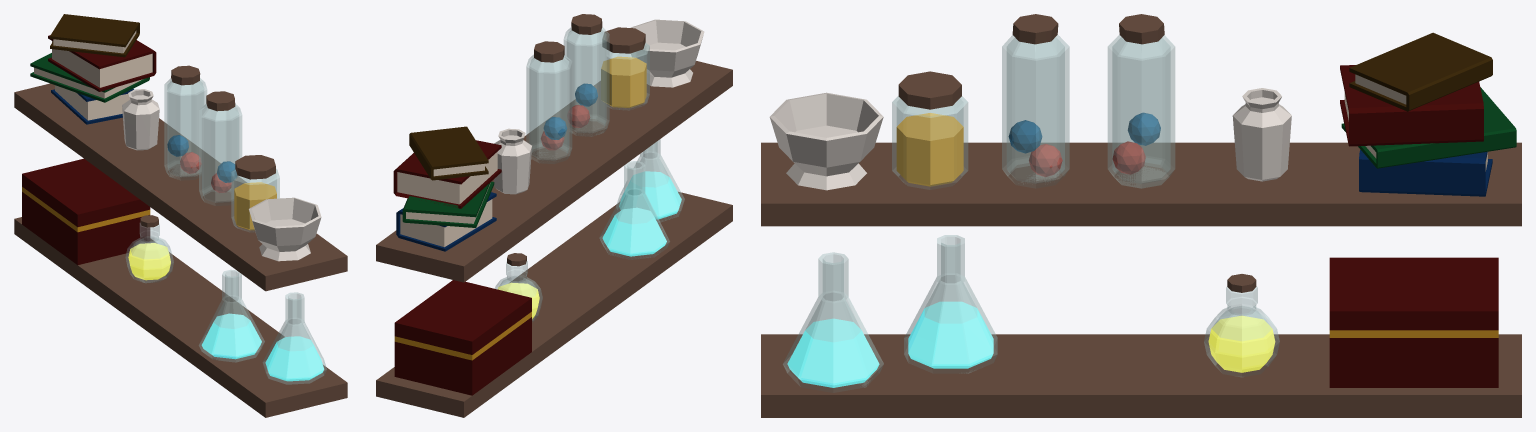
File: valdaSalon 1.fbx
3 views of the same model, side by side, from view 1: azimuth 30°, elevation 25°; view 2: azimuth 150°, elevation 25°; view 3: azimuth 270°, elevation 25° (orthographic). The views are drawn at different scales.
Visible parts, largest first — view 1: ShelfWall_0.5x2x2_proxy.001_0, ShelfWall_0.5x2x2_proxy.001_8, ShelfWall_0.5x2x2_proxy.001_5, ShelfWall_0.5x2x2_proxy.001_1, ShelfWall_0.5x2x2_proxy.001_3, ShelfWall_0.5x2x2_proxy.001_13, ShelfWall_0.5x2x2_proxy.001_6, ShelfWall_0.5x2x2_proxy.001_12, ShelfWall_0.5x2x2_proxy.001_9, ShelfWall_0.5x2x2_proxy.001_4, ShelfWall_0.5x2x2_proxy.001_7, ShelfWall_0.5x2x2_proxy.001_10 (+2 smaller); view 2: ShelfWall_0.5x2x2_proxy.001_0, ShelfWall_0.5x2x2_proxy.001_8, ShelfWall_0.5x2x2_proxy.001_5, ShelfWall_0.5x2x2_proxy.001_1, ShelfWall_0.5x2x2_proxy.001_13, ShelfWall_0.5x2x2_proxy.001_3, ShelfWall_0.5x2x2_proxy.001_6, ShelfWall_0.5x2x2_proxy.001_9, ShelfWall_0.5x2x2_proxy.001_4, ShelfWall_0.5x2x2_proxy.001_10, ShelfWall_0.5x2x2_proxy.001_7, ShelfWall_0.5x2x2_proxy.001_2 (+2 smaller); view 3: ShelfWall_0.5x2x2_proxy.001_0, ShelfWall_0.5x2x2_proxy.001_8, ShelfWall_0.5x2x2_proxy.001_5, ShelfWall_0.5x2x2_proxy.001_1, ShelfWall_0.5x2x2_proxy.001_13, ShelfWall_0.5x2x2_proxy.001_6, ShelfWall_0.5x2x2_proxy.001_2, ShelfWall_0.5x2x2_proxy.001_9, ShelfWall_0.5x2x2_proxy.001_4, ShelfWall_0.5x2x2_proxy.001_12, ShelfWall_0.5x2x2_proxy.001_10, ShelfWall_0.5x2x2_proxy.001_11 (+1 smaller).
Part boxes in pixels (x1,y1,x2,y2): ShelfWall_0.5x2x2_proxy.001_0: [14, 65, 347, 417]; ShelfWall_0.5x2x2_proxy.001_8: [125, 78, 326, 384]; ShelfWall_0.5x2x2_proxy.001_5: [22, 35, 156, 264]; ShelfWall_0.5x2x2_proxy.001_1: [122, 89, 321, 261]; ShelfWall_0.5x2x2_proxy.001_3: [34, 30, 152, 120]; ShelfWall_0.5x2x2_proxy.001_13: [201, 313, 324, 381]; ShelfWall_0.5x2x2_proxy.001_6: [50, 14, 139, 57]; ShelfWall_0.5x2x2_proxy.001_12: [128, 243, 170, 280]; ShelfWall_0.5x2x2_proxy.001_9: [234, 182, 276, 230]; ShelfWall_0.5x2x2_proxy.001_4: [30, 53, 149, 102]; ShelfWall_0.5x2x2_proxy.001_7: [22, 187, 150, 232]; ShelfWall_0.5x2x2_proxy.001_10: [167, 135, 237, 182]; ShelfWall_0.5x2x2_proxy.001_0: [376, 14, 732, 417]; ShelfWall_0.5x2x2_proxy.001_8: [495, 27, 684, 321]; ShelfWall_0.5x2x2_proxy.001_5: [393, 140, 531, 395]; ShelfWall_0.5x2x2_proxy.001_1: [494, 19, 704, 194]; ShelfWall_0.5x2x2_proxy.001_13: [602, 171, 681, 256]; ShelfWall_0.5x2x2_proxy.001_3: [397, 152, 497, 247]; ShelfWall_0.5x2x2_proxy.001_6: [409, 126, 488, 180]; ShelfWall_0.5x2x2_proxy.001_9: [601, 56, 646, 107]; ShelfWall_0.5x2x2_proxy.001_4: [402, 181, 494, 227]; ShelfWall_0.5x2x2_proxy.001_10: [543, 83, 597, 139]; ShelfWall_0.5x2x2_proxy.001_7: [394, 311, 531, 360]; ShelfWall_0.5x2x2_proxy.001_2: [396, 192, 496, 251]; ShelfWall_0.5x2x2_proxy.001_0: [761, 14, 1521, 417]; ShelfWall_0.5x2x2_proxy.001_8: [783, 35, 1279, 392]; ShelfWall_0.5x2x2_proxy.001_5: [1329, 65, 1498, 387]; ShelfWall_0.5x2x2_proxy.001_1: [769, 88, 1291, 190]; ShelfWall_0.5x2x2_proxy.001_13: [787, 301, 993, 387]; ShelfWall_0.5x2x2_proxy.001_6: [1349, 32, 1492, 111]; ShelfWall_0.5x2x2_proxy.001_2: [1359, 150, 1492, 196]; ShelfWall_0.5x2x2_proxy.001_9: [896, 113, 963, 186]; ShelfWall_0.5x2x2_proxy.001_4: [1341, 87, 1516, 168]; ShelfWall_0.5x2x2_proxy.001_12: [1208, 315, 1275, 372]; ShelfWall_0.5x2x2_proxy.001_10: [1008, 112, 1160, 153]; ShelfWall_0.5x2x2_proxy.001_11: [1029, 141, 1145, 176].
Bounding box in the file's own units: 36.58 × 96 × 180.
